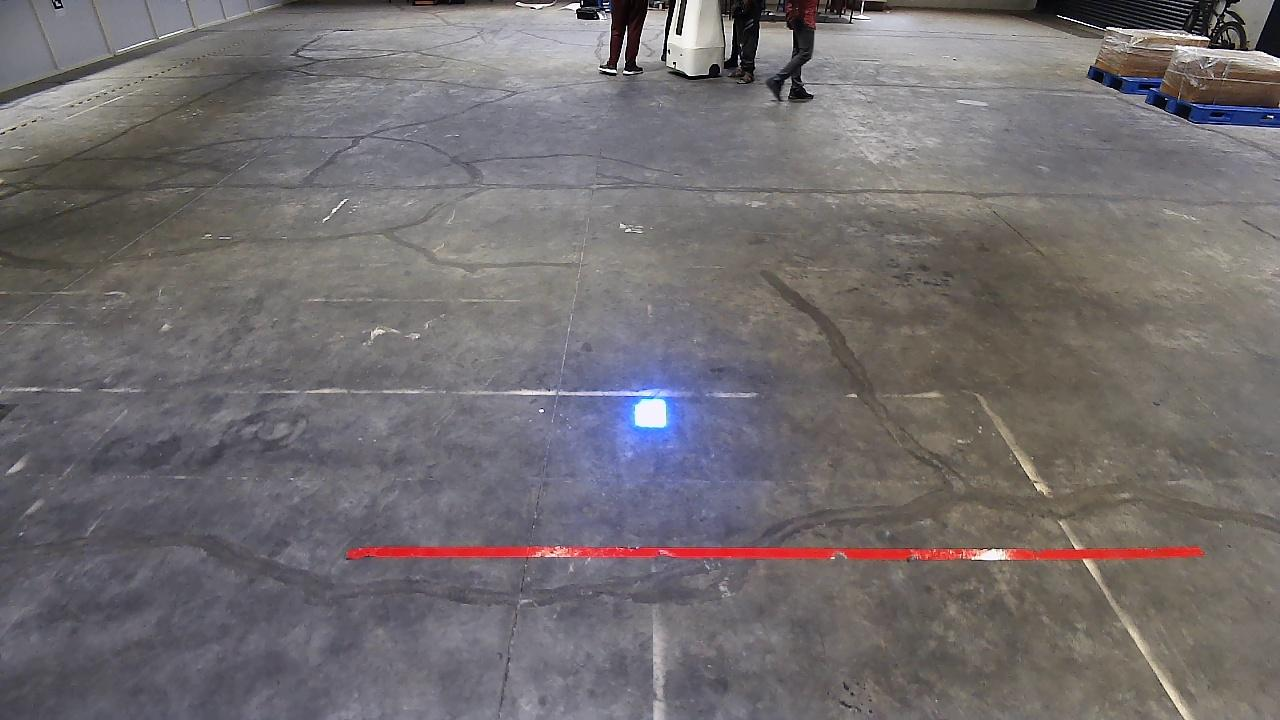red_line: (344, 543, 1207, 556)
